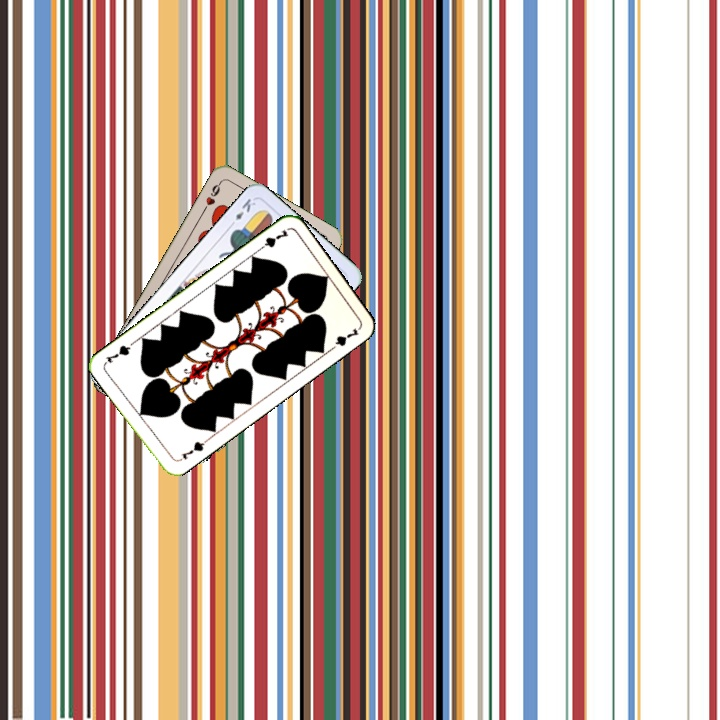EK: (225, 194, 258, 230)
G7: (254, 225, 291, 254), (174, 436, 210, 464)
H9: (198, 178, 224, 215)
